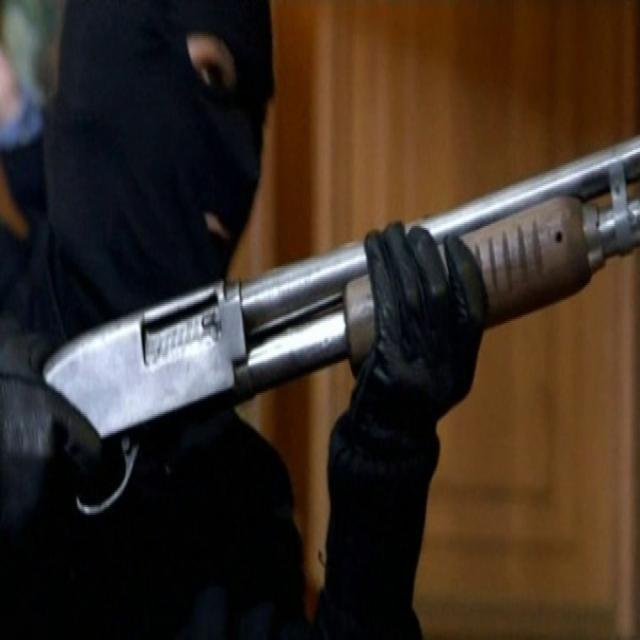rifle: (43, 125, 640, 527)
